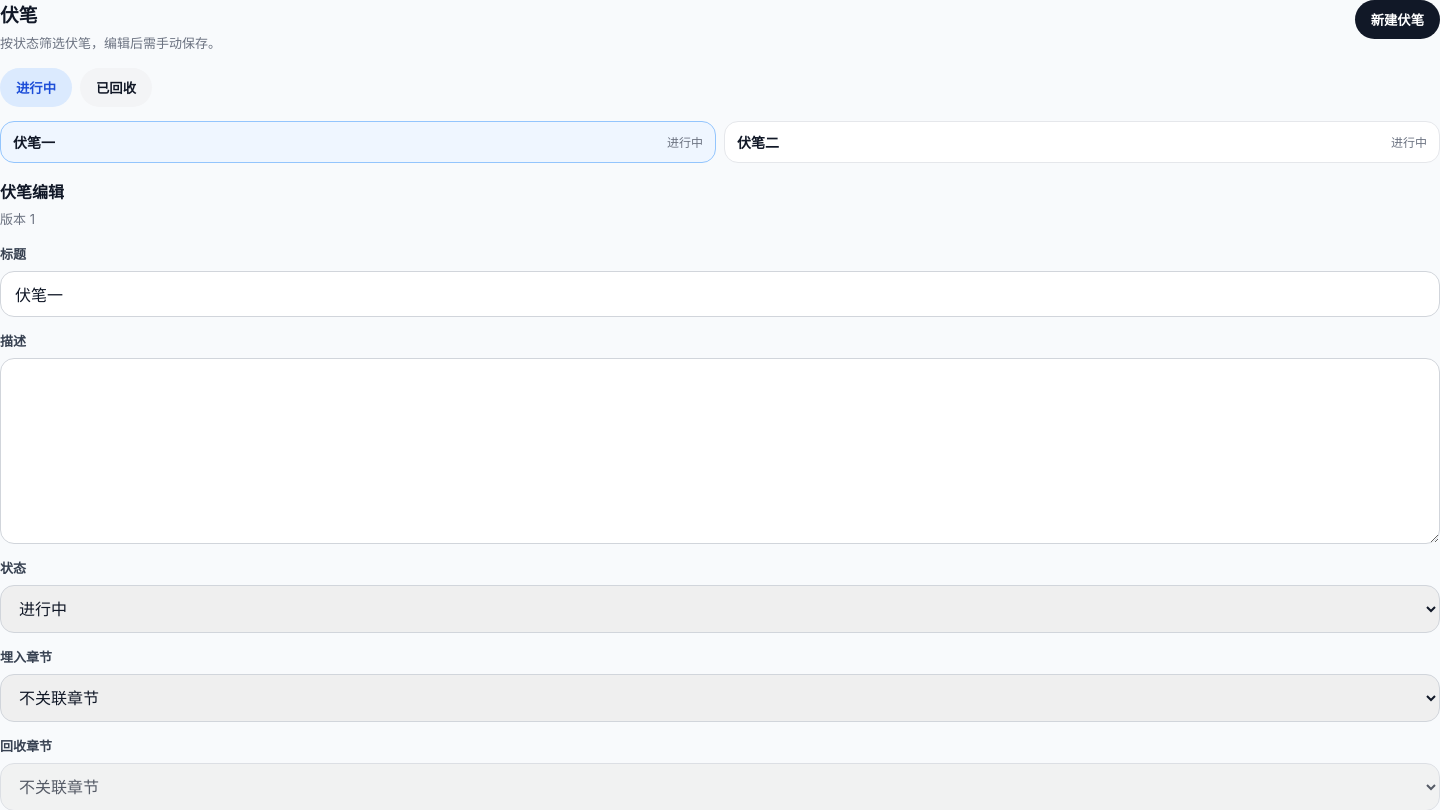
Scenario: ForeshadowPanel › deletes the current foreshadow and removes it from the list
What coordinates should you click on to do the following:
click the button "伏笔一 进行中"
I would click on:
 (34, 143)
Its box is [0,121,716,163].
(page scrolled)
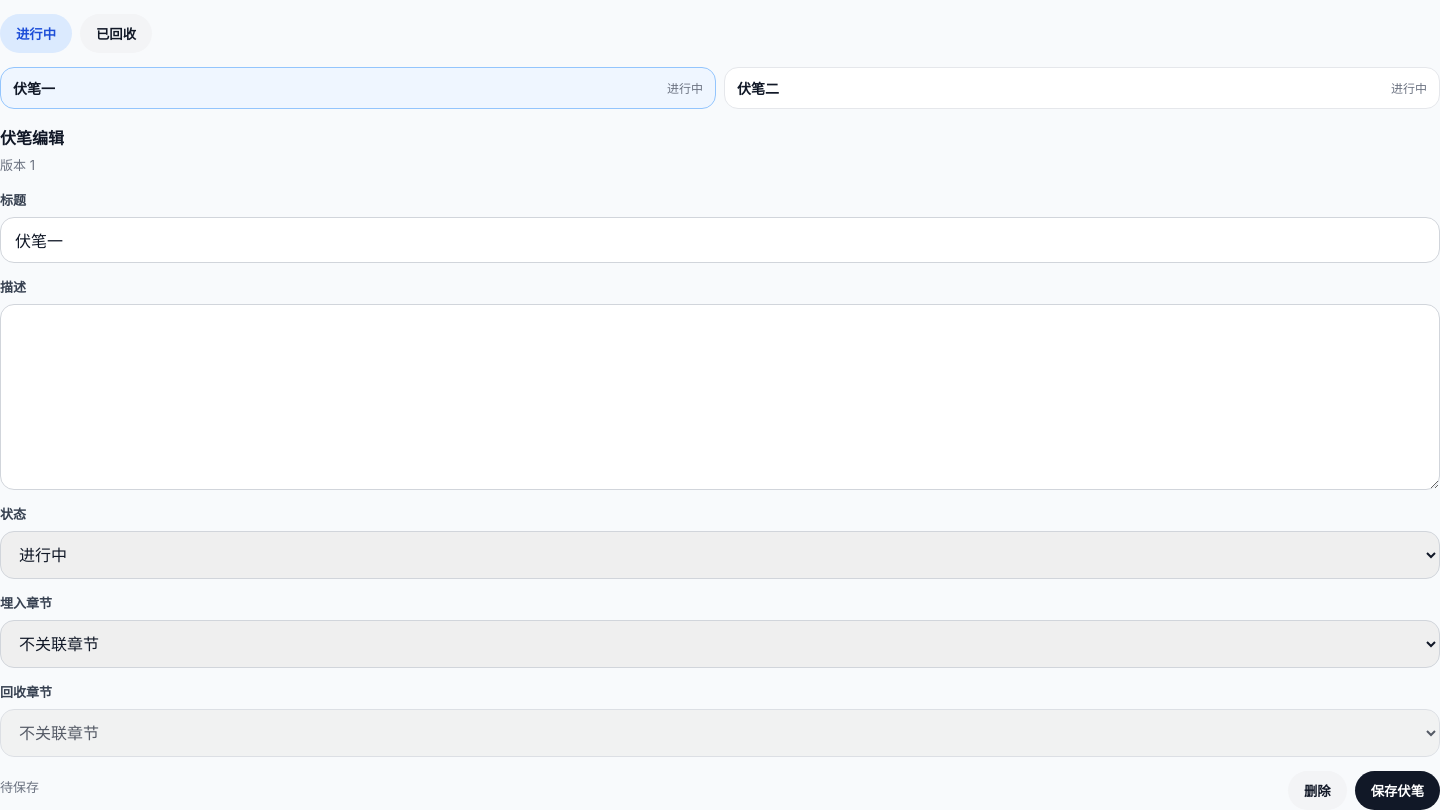
What coordinates should you click on to do the following:
click the button "删除"
I would click on:
 (1317, 790)
Its box is [1288,771,1347,809].
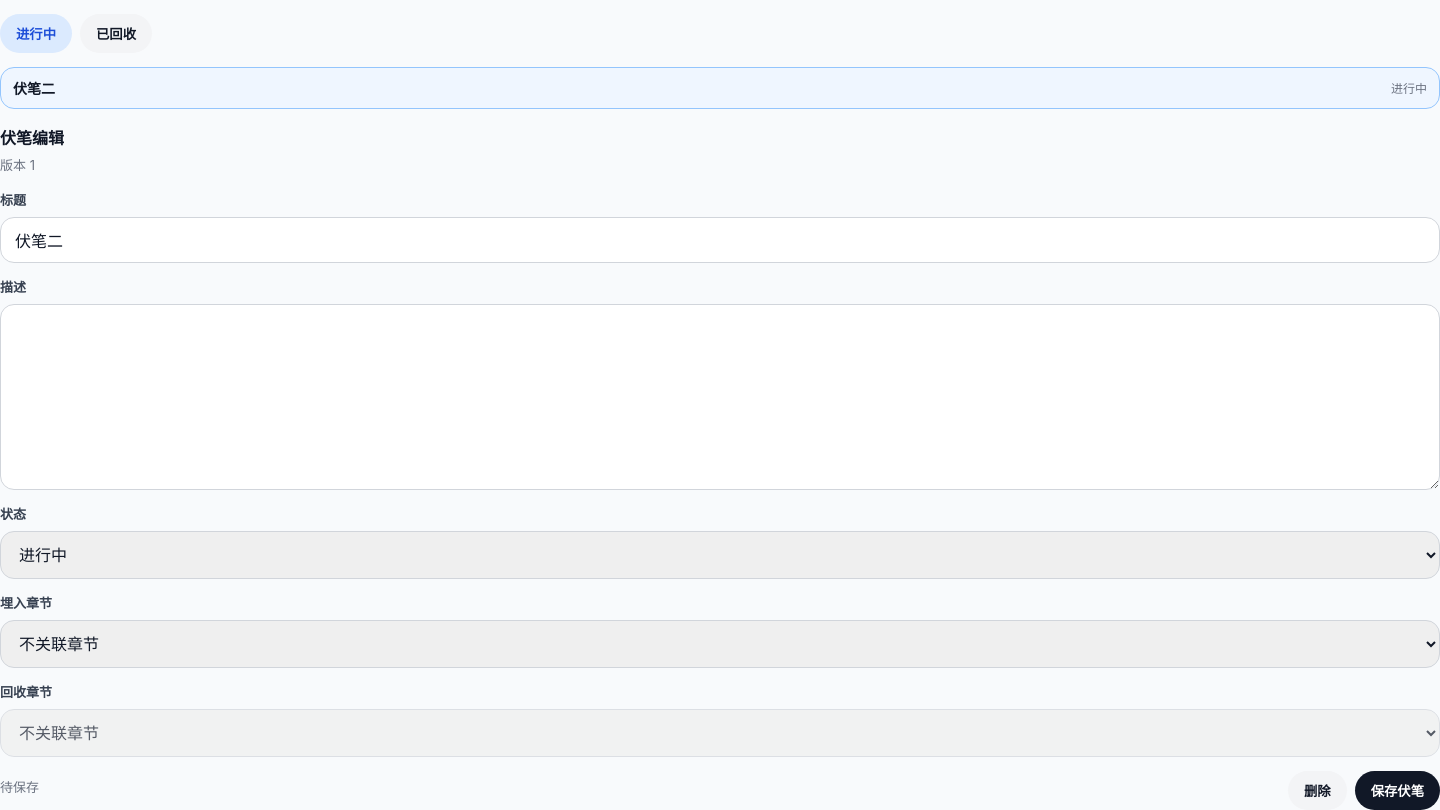
expect the number of buttons with class "foreshadow-item" is 1: met, box [0,67,1439,109]
